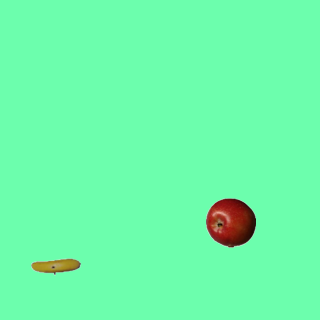Apple Braeburn: (205, 197, 255, 247)
Banana: (30, 241, 80, 291)
